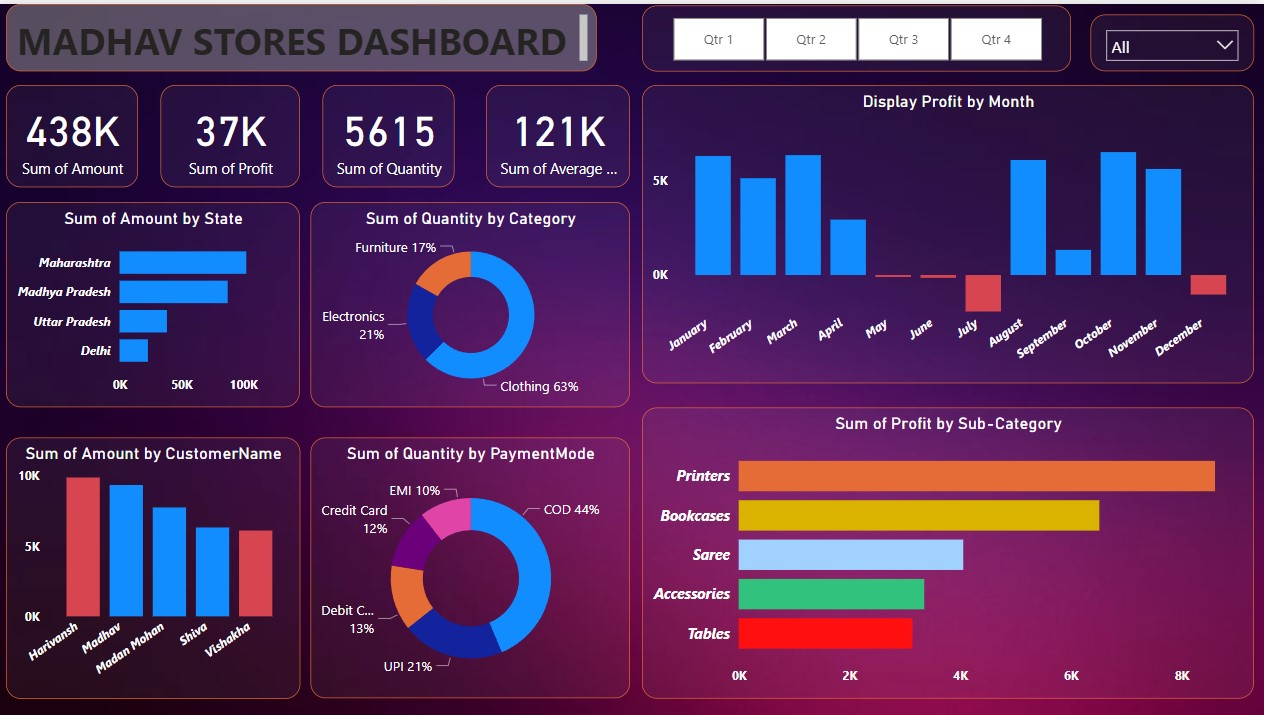

What the dashboard file says about the page in this screenshot:
{"tool":"powerbi","page":{"name":"Page 1","canvas":[1280,720],"ordinal":0},"visuals":[{"type":"textbox","box":[9.1,0,597,68.2],"z":0},{"type":"columnChart","title":"Display Profit by Month","fields":{"Y":["Details.Profit"],"Category":["Orders.Order Date.Variation.Date Hierarchy.Month"]},"box":[651.5,81.8,618.2,301.5],"z":1000},{"type":"clusteredBarChart","fields":{"Category":["Details.Sub-Category"],"Y":["Details.Profit"]},"box":[651.5,407.6,618.2,293.9],"z":2000},{"type":"donutChart","fields":{"Category":["Details.Category"],"Y":["Details.Quantity"]},"box":[316.7,200,322.7,207.6],"z":3000},{"type":"donutChart","fields":{"Y":["Details.Quantity"],"Category":["Details.PaymentMode"]},"box":[316.7,437.9,322.7,263.6],"z":4000},{"type":"card","fields":{"Values":["Details.Amount"]},"box":[9.1,81.8,133.3,103],"z":5000},{"type":"card","fields":{"Values":["Details.Profit"]},"box":[165.2,81.8,140.9,103],"z":6000},{"type":"card","fields":{"Values":["Details.Quantity"]},"box":[328.8,81.8,133.3,103],"z":7000},{"type":"card","fields":{"Values":["Details.Average Of Values"]},"box":[493.9,81.8,145.5,103],"z":8000},{"type":"clusteredBarChart","fields":{"Y":["Details.Amount"],"Category":["Orders.State"]},"box":[9.1,200,297,207.6],"z":9000},{"type":"columnChart","fields":{"Category":["Orders.CustomerName"],"Y":["Details.Amount"]},"box":[9,438,297,264],"z":10000},{"type":"slicer","fields":{"Values":["Orders.Order Date.Variation.Date Hierarchy.Quarter"]},"box":[651.5,1.5,433.3,66.7],"z":11000},{"type":"slicer","fields":{"Values":["Orders.State"]},"box":[1104.5,10.6,165.2,57.6],"z":11001}]}

Visuals, with their boxes in screenshot pixels (x1, y1, x2, y2), scaled from the page's 1280x720 canvas onto the 1264x715 screenshot:
textbox: (x1=9, y1=0, x2=599, y2=68)
"Display Profit by Month" columnChart: (x1=643, y1=81, x2=1254, y2=381)
clusteredBarChart - Details.Sub-Category x Details.Profit: (x1=643, y1=405, x2=1254, y2=697)
donutChart - Details.Category x Details.Quantity: (x1=313, y1=199, x2=631, y2=405)
donutChart - Details.Quantity x Details.PaymentMode: (x1=313, y1=435, x2=631, y2=697)
card - Details.Amount: (x1=9, y1=81, x2=141, y2=184)
card - Details.Profit: (x1=163, y1=81, x2=302, y2=184)
card - Details.Quantity: (x1=325, y1=81, x2=456, y2=184)
card - Details.Average Of Values: (x1=488, y1=81, x2=631, y2=184)
clusteredBarChart - Details.Amount x Orders.State: (x1=9, y1=199, x2=302, y2=405)
columnChart - Orders.CustomerName x Details.Amount: (x1=9, y1=435, x2=302, y2=697)
slicer - Orders.Order Date.Variation.Date Hierarchy.Quarter: (x1=643, y1=1, x2=1071, y2=68)
slicer - Orders.State: (x1=1091, y1=11, x2=1254, y2=68)
